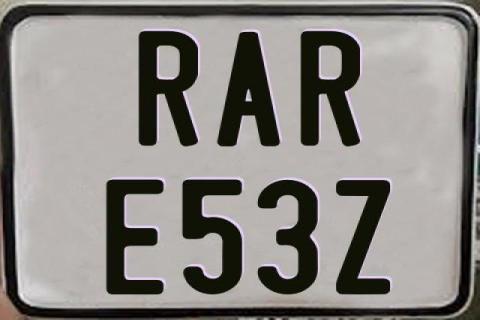0: (255, 180, 321, 294), (182, 178, 242, 298)
A: (215, 32, 278, 151)
E: (103, 179, 165, 295)
R: (140, 29, 202, 149), (300, 31, 362, 147)
Z: (336, 180, 394, 294)
